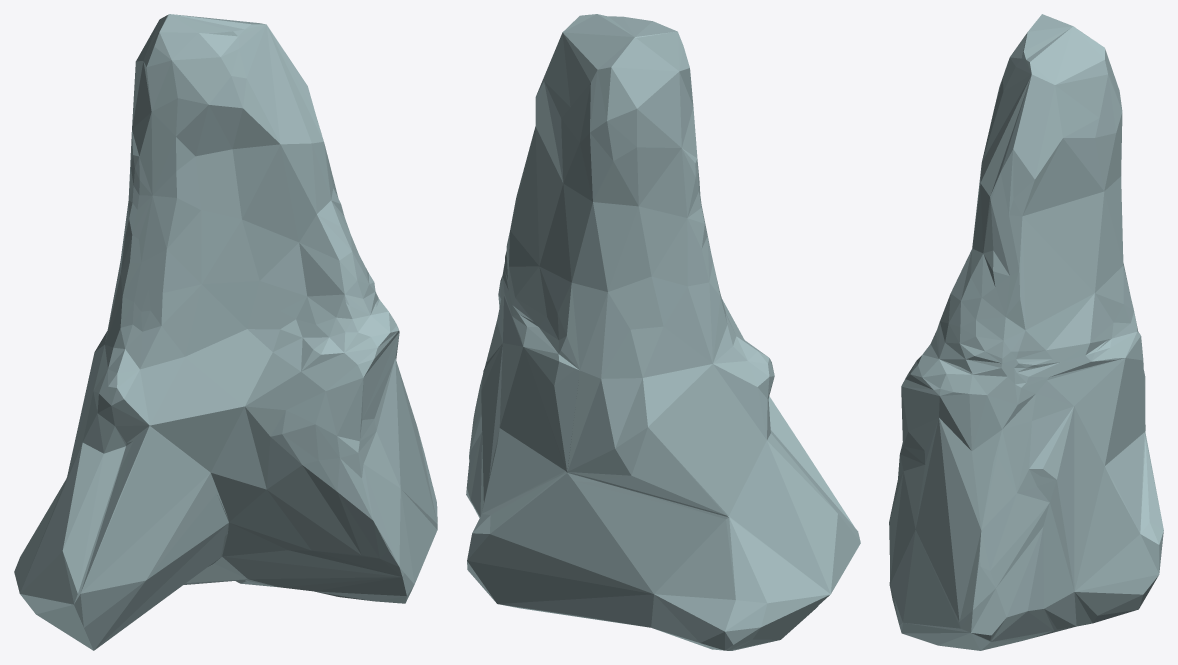
Rendered from cliff_if necessary.fbx.
3 views of the same model, side by side, from view 1: azimuth 30°, elevation 25°; view 2: azimuth 150°, elevation 25°; view 3: azimuth 270°, elevation 25° (orthographic). The views are drawn at different scales.
Visible parts, largest first — view 1: Group54428.003; view 2: Group54428.003; view 3: Group54428.003.
Part boxes in pixels (x1=…): Group54428.003: x1=14, y1=14, x2=437, y2=650; Group54428.003: x1=466, y1=14, x2=860, y2=650; Group54428.003: x1=889, y1=14, x2=1163, y2=650.
Bounding box in the file's own units: 8880 × 12647 × 5688.
